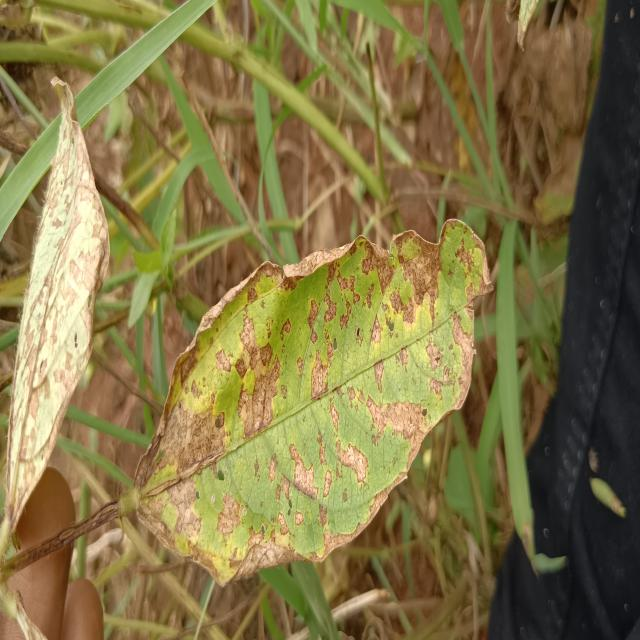Black gram_leaf spot: (128, 208, 498, 596), (8, 76, 111, 542)
